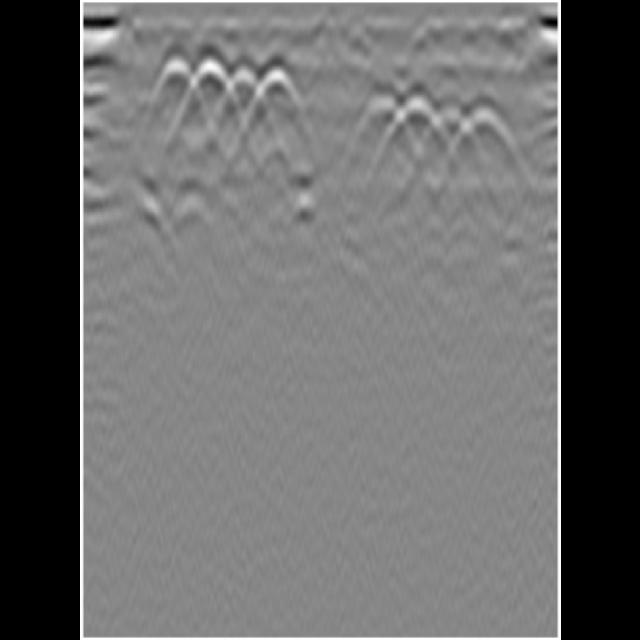hyperbola: (350, 93, 406, 149), (146, 52, 198, 110), (462, 104, 516, 156), (254, 64, 306, 114), (396, 92, 442, 148), (425, 104, 481, 150), (223, 62, 271, 114), (182, 59, 234, 105)
